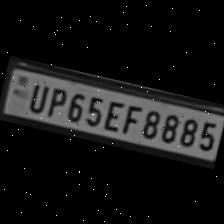5: (81, 90, 107, 128), (194, 118, 220, 152)
6: (60, 88, 86, 122)
8: (136, 103, 164, 141), (156, 108, 182, 144), (174, 113, 200, 148)
E: (100, 94, 126, 132)
F: (118, 100, 143, 134)
P: (42, 84, 68, 119)
U: (22, 78, 50, 114)
